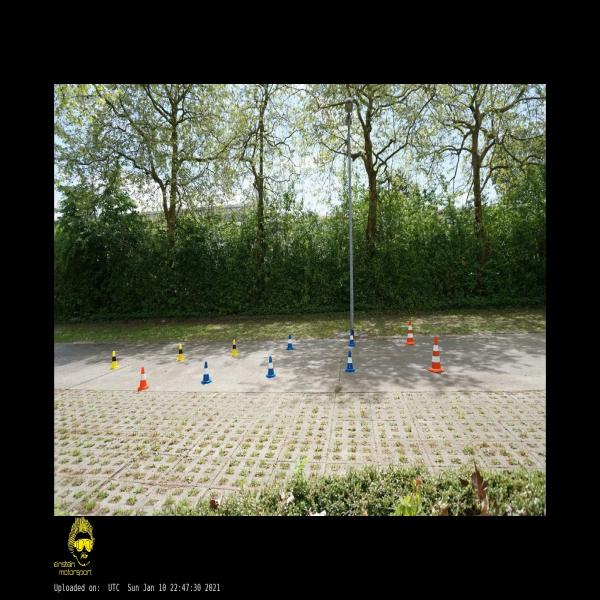blue_cone: (200, 361, 212, 385), (266, 356, 276, 378), (346, 351, 354, 372), (286, 335, 294, 350), (348, 331, 355, 346)
large_orange_cone: (428, 336, 445, 372), (405, 319, 415, 345)
orange_cone: (138, 367, 148, 390)
yellow_cone: (110, 351, 118, 370), (177, 344, 185, 361), (231, 340, 238, 356)
